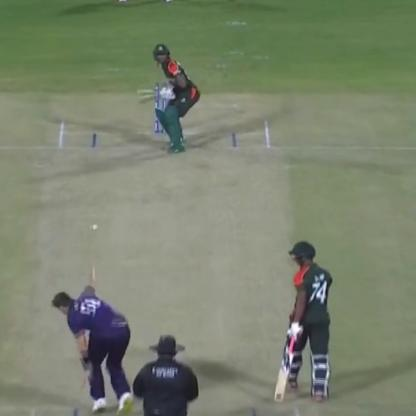ball: (89, 223, 103, 233)
bat: (272, 324, 302, 404), (127, 82, 173, 110)
pitch: (2, 95, 331, 416)
